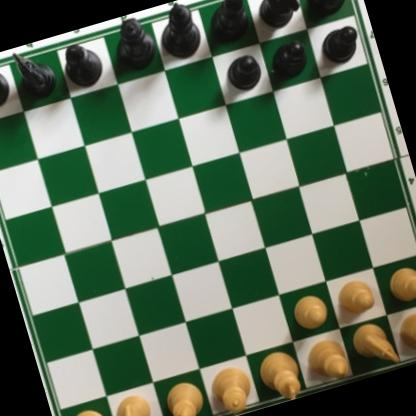black-bishop: (56, 38, 106, 91), (203, 0, 255, 48)
black-king: (151, 0, 207, 63)
black-knight: (5, 42, 61, 105), (251, 0, 307, 34)
black-pawn: (314, 20, 365, 68), (265, 34, 313, 84), (220, 48, 267, 95)
black-queen: (109, 12, 163, 78)
black-rook: (297, 0, 361, 18), (0, 54, 14, 115)
white-bishop: (302, 332, 354, 386), (162, 374, 213, 416)
white-king: (255, 346, 306, 407)
white-knight: (346, 315, 400, 375), (107, 392, 159, 416)
white-pawn: (333, 275, 377, 318), (288, 289, 329, 332), (384, 260, 416, 303)
white-queen: (204, 360, 260, 416)
white-rook: (393, 303, 416, 363), (54, 403, 117, 416)
